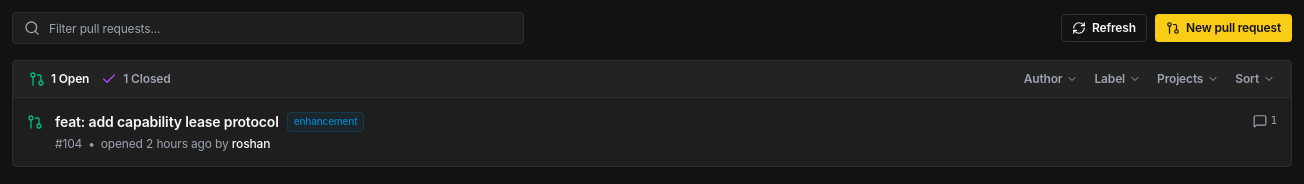
PullRequestsView Component › filters pull requests when clicking Closed tab
Expected: the text "feat: add capability lease protocol" is shown, [55, 112, 279, 132]
Note: Click on Closed filter
What coordinates should you click on to do the following:
click the button "1 Closed"
I would click on:
 (136, 79)
Its box is [101, 71, 171, 87].
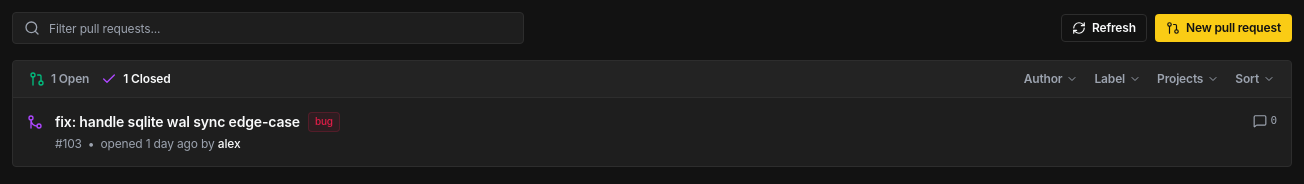
Result: the text "fix: handle sqlite wal sync edge-case" is shown at [55, 112, 300, 132]
